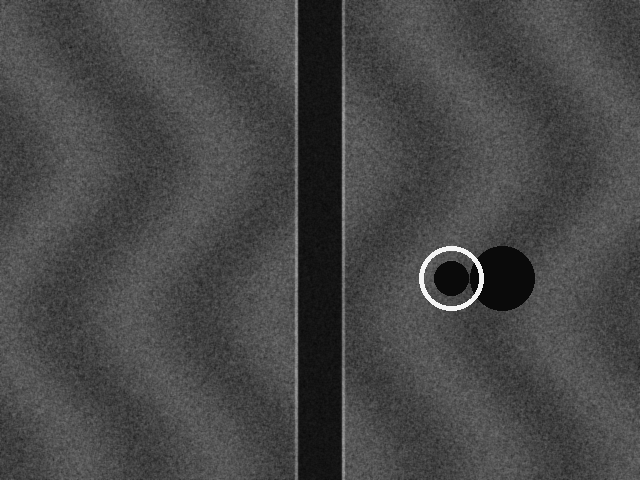Rubber Debris: (419, 246, 483, 310)
